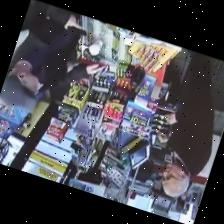person: (0, 0, 104, 111), (158, 50, 214, 196)
